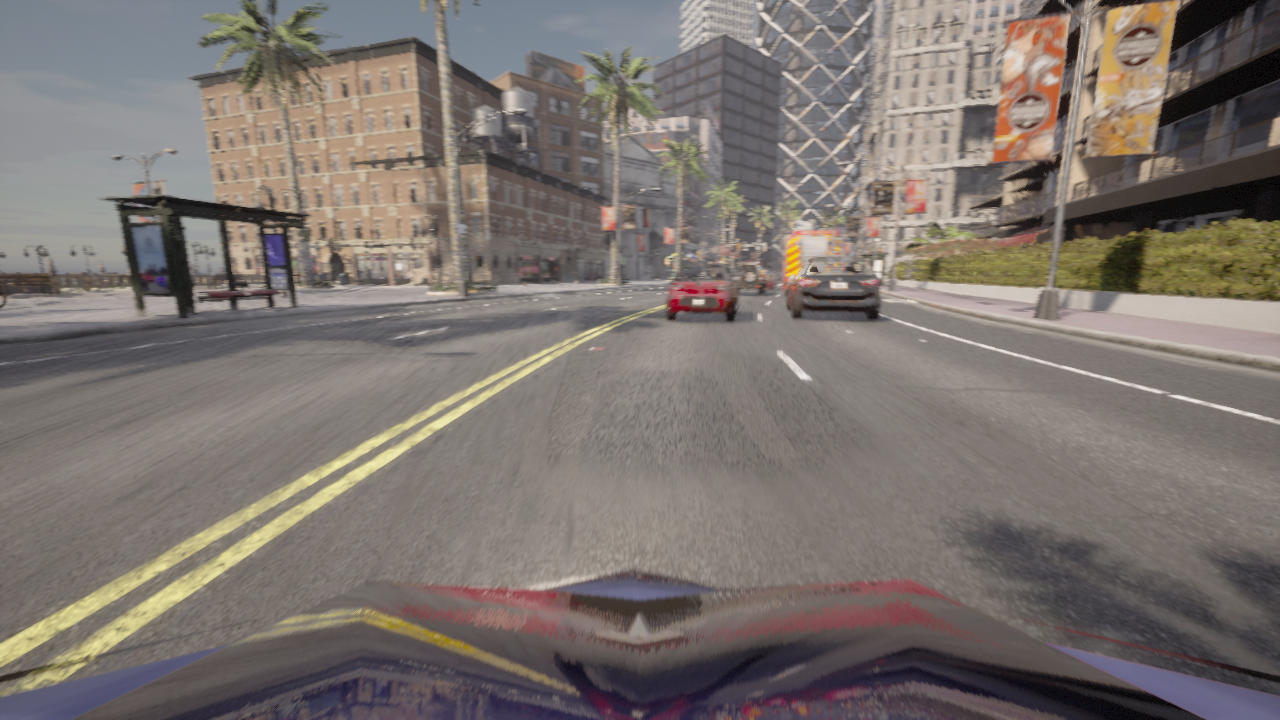cyclist: (0, 569, 1279, 719), (787, 256, 880, 320), (783, 220, 845, 295), (666, 264, 740, 322), (731, 262, 767, 295), (747, 272, 776, 290), (774, 272, 783, 281)
